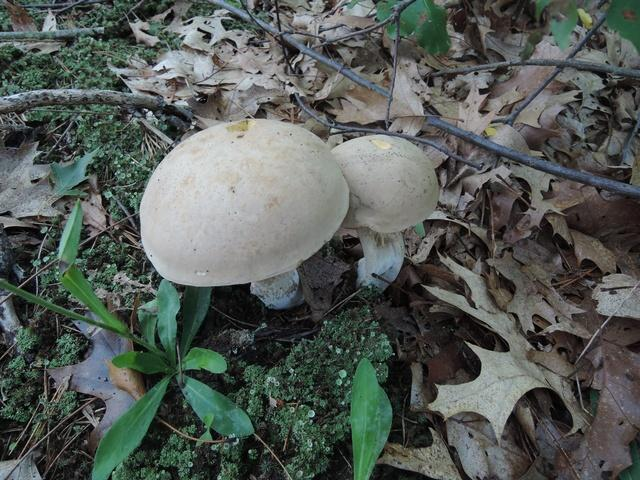Edible Mushroom: (138, 116, 350, 310), (329, 132, 439, 292)
